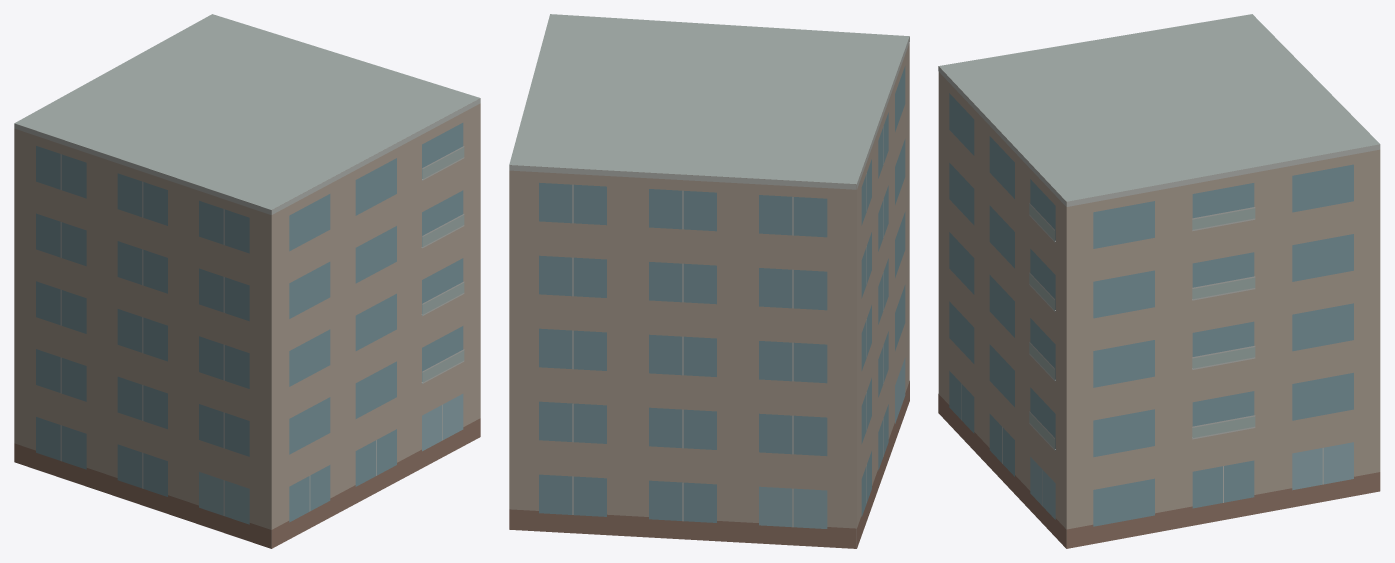
File: survey-upis-32849651.glb
3 views of the same model, side by side, from view 1: azimuth 30°, elevation 25°; view 2: azimuth 150°, elevation 25°; view 3: azimuth 270°, elevation 25° (orthographic). The views are drawn at different scales.
Visible parts, largest first — view 1: survey-upis-32849651.tmp; view 2: survey-upis-32849651.tmp; view 3: survey-upis-32849651.tmp.
Boxes of the visible parts, x1,y1,x2,y2 form: survey-upis-32849651.tmp: (14, 14, 480, 548); survey-upis-32849651.tmp: (509, 14, 909, 548); survey-upis-32849651.tmp: (938, 14, 1380, 548).
Bounding box in the file's own units: 18.54 × 15.97 × 18.44.
